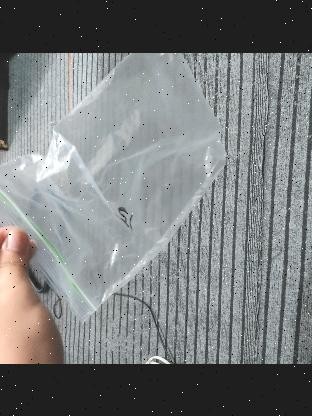Others: (0, 53, 226, 319)
